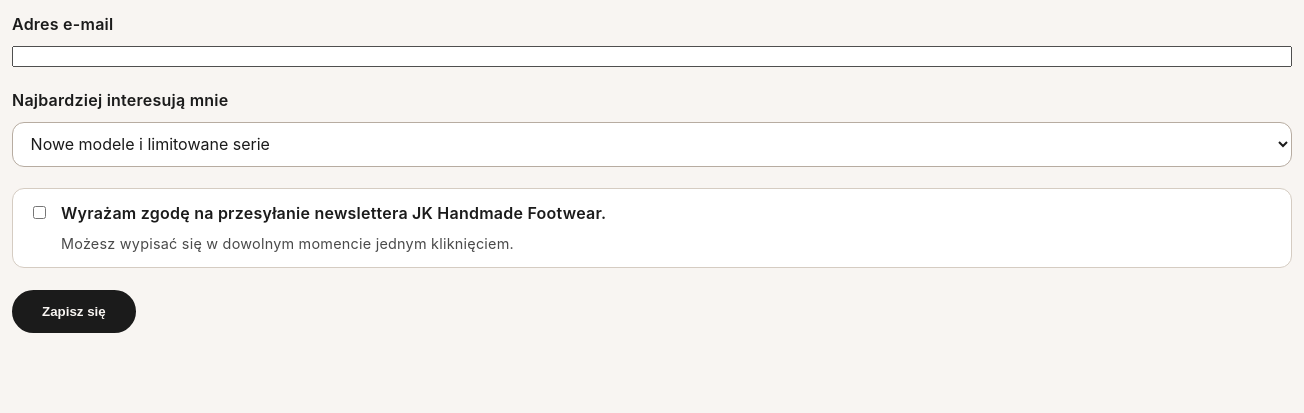
NewsletterSignupForm › subscribes the visitor to the newsletter
Type "osoba@example.com" into the field labelled "Adres e-mail".
click(652, 56); type("osoba@example.com")  # box [12,46,1292,67]
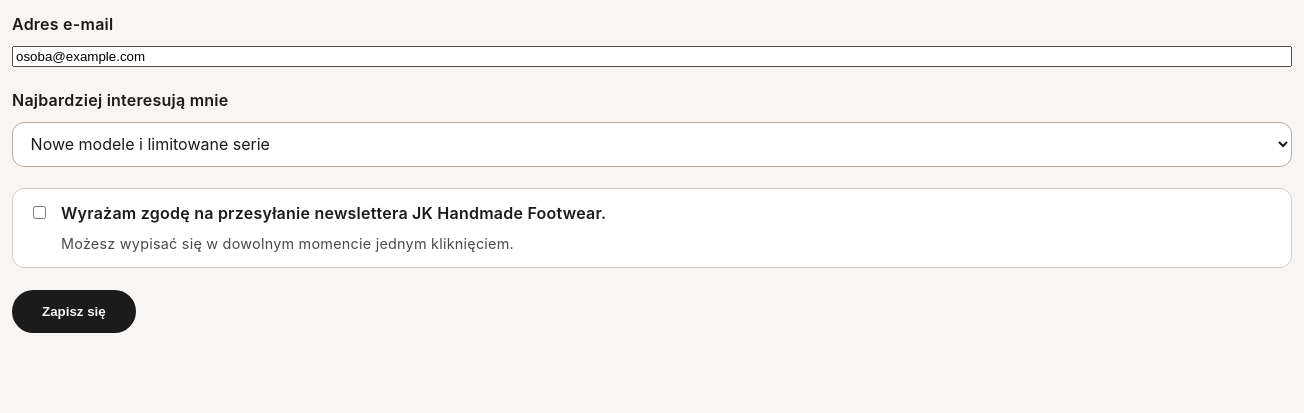
Select "Zapisy na warsztaty i konsultacje na żywo" in the dropdown labelled "Najbardziej interesują mnie" at (652, 144), box [12,122,1292,167]
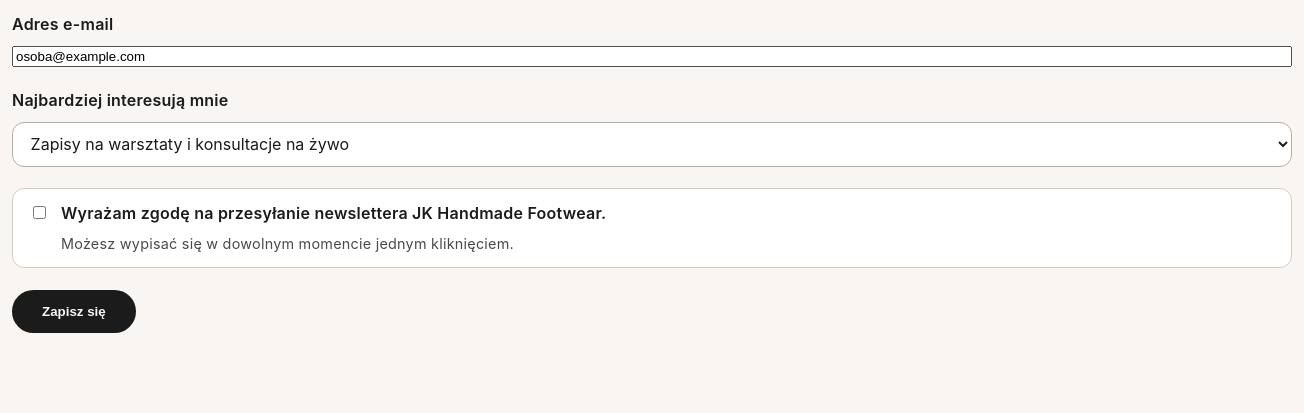
Click the checkbox labelled "Wyrażam zgodę na przesyłanie newslettera".
click(40, 212)  # box [33,206,46,219]
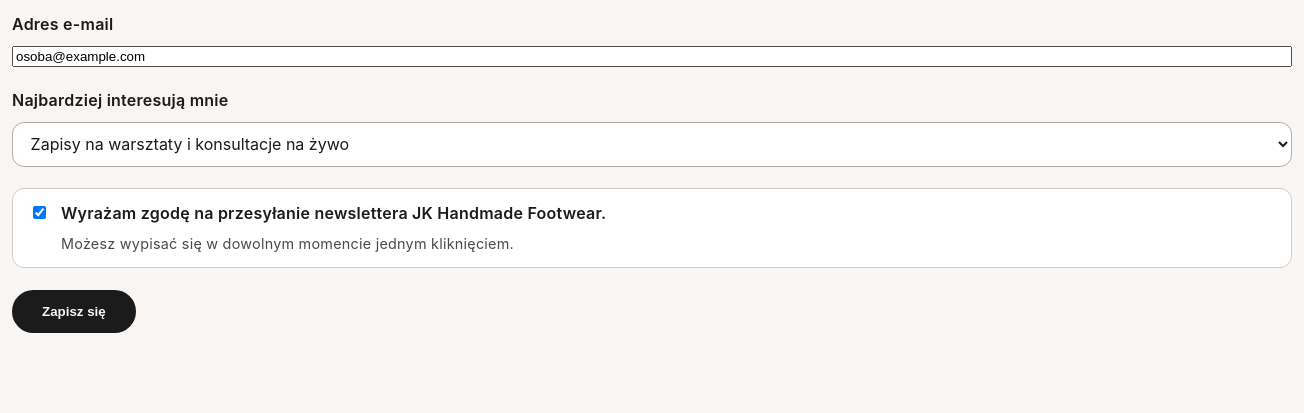
Click the button "Zapisz się".
click(74, 312)  # box [12,290,136,333]
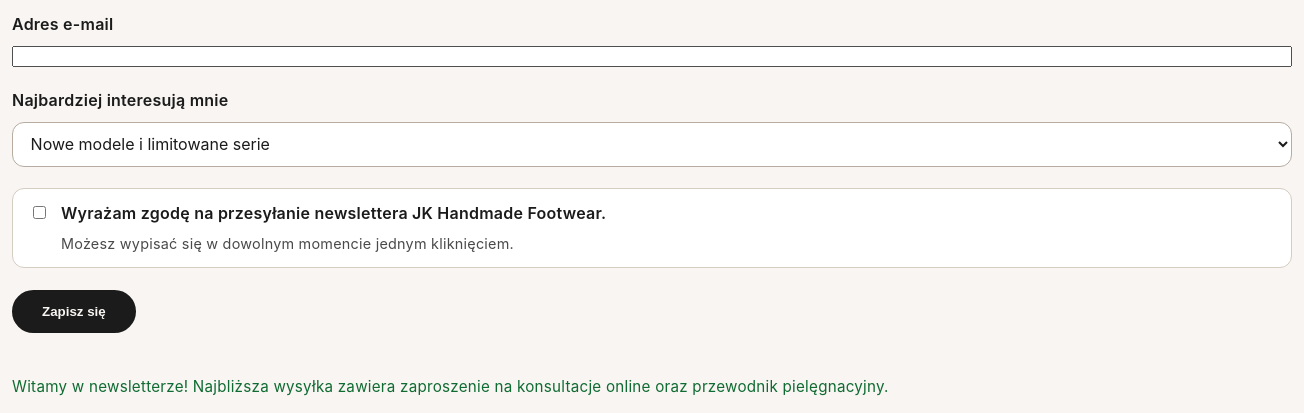
Expected: the text "Witamy w newsletterze! Najbliższa wysyłka zawiera zaproszenie na konsultacje online" is shown, [12,377,889,396]
